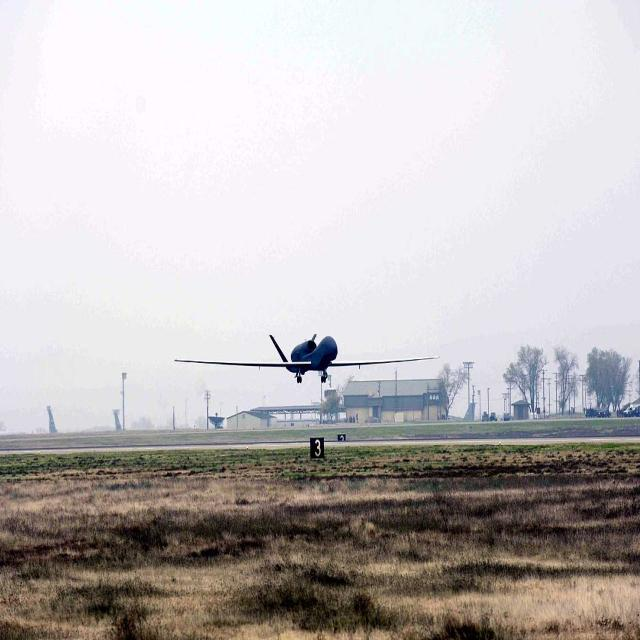MIL_Plane: (174, 334, 440, 383)
